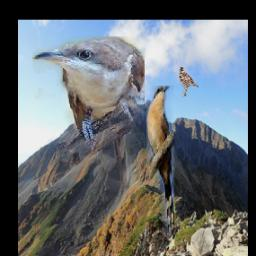Cuckoo: (33, 37, 146, 206), (147, 86, 175, 235)
Sparrow: (179, 67, 199, 97)
